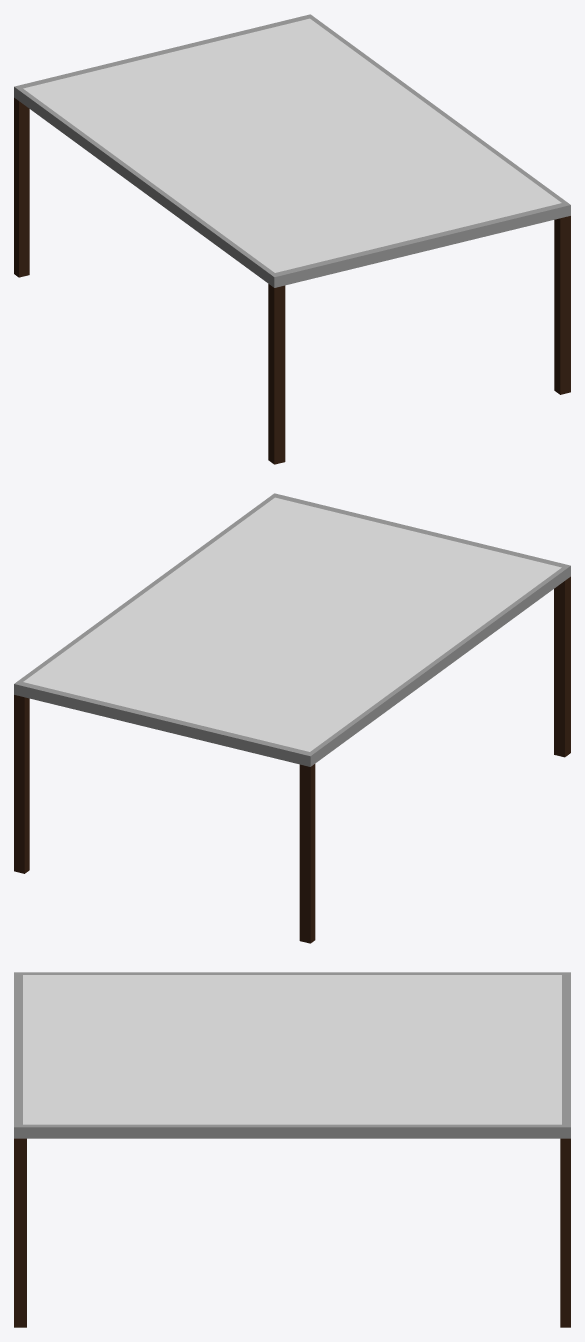
The model's file is Table 2.fbx.
3 renders of one model, top to bottom at view 1: azimuth 30°, elevation 25°; view 2: azimuth 150°, elevation 25°; view 3: azimuth 270°, elevation 25°, orthographic. The views are drawn at different scales.
Visible parts, largest first — view 1: Cube; view 2: Cube; view 3: Cube.
Boxes of the visible parts, bbox=[...] form: Cube: bbox=[14, 14, 570, 464]; Cube: bbox=[14, 493, 570, 943]; Cube: bbox=[14, 972, 570, 1327].
Size of the model in its own units: 145 by 87.87 by 221.
